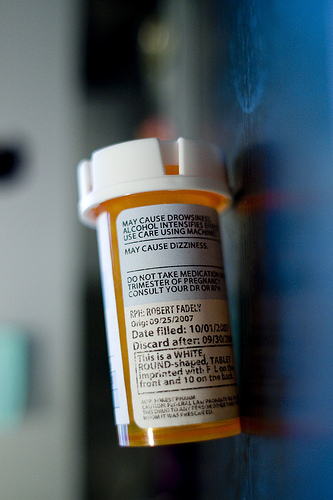pill bottle: (73, 133, 246, 452)
